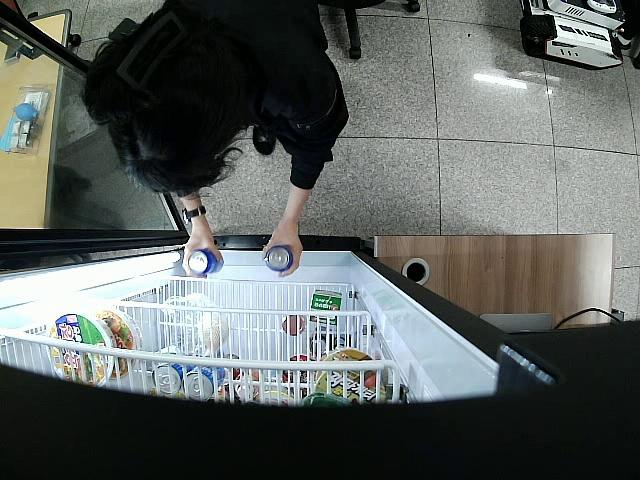00_hand: (261, 219, 304, 278), (183, 229, 224, 279)
13_pocariSweat: (188, 249, 224, 276), (263, 245, 292, 274)
